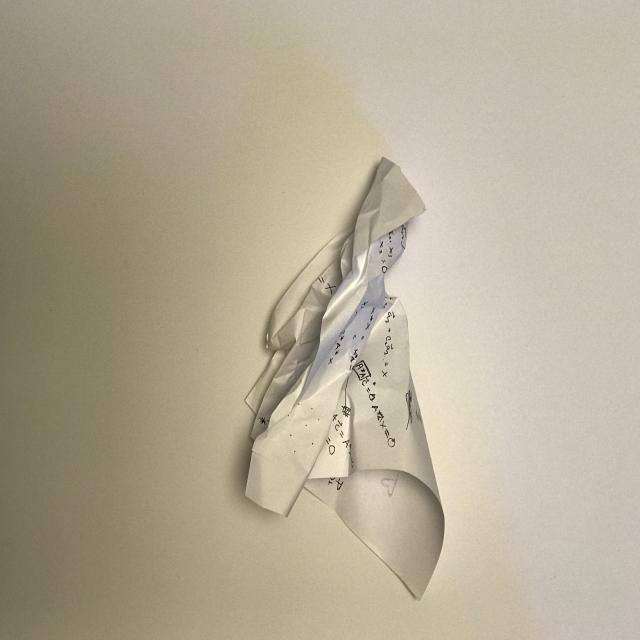paper: (238, 156, 458, 602)
